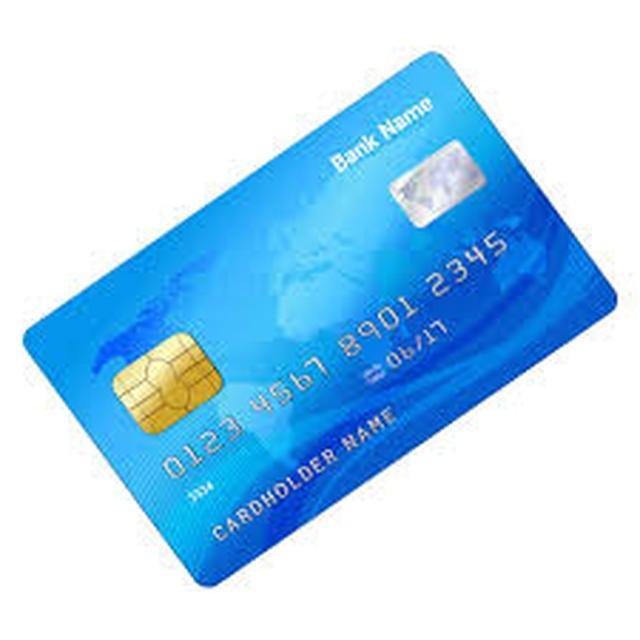card: (9, 33, 635, 602)
